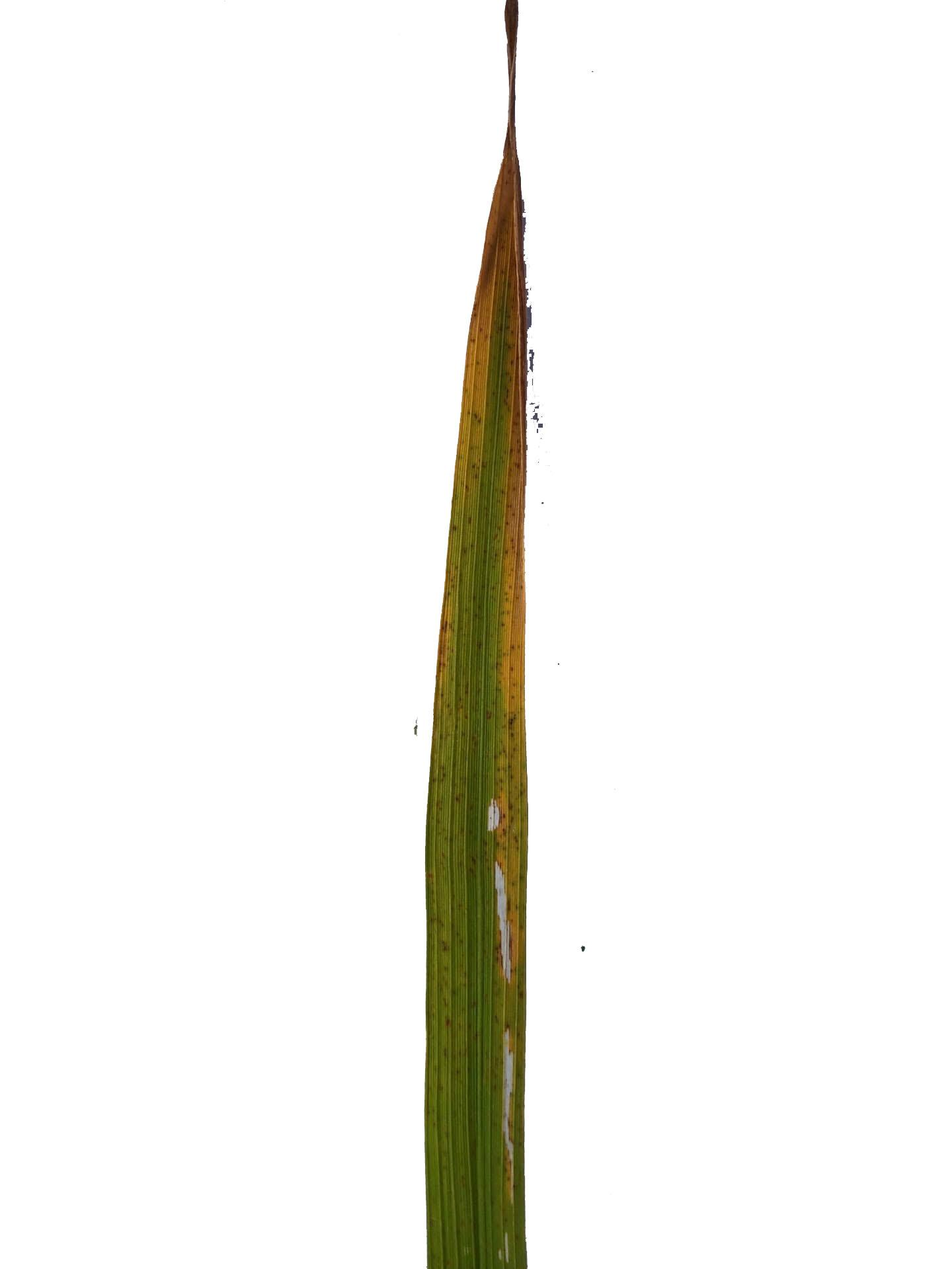Blight: (490, 860, 517, 986), (499, 1019, 520, 1177), (483, 794, 506, 836)
Tungro: (473, 3, 527, 710)
